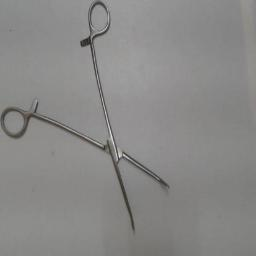Lahey Forceps: (0, 0, 176, 234)
